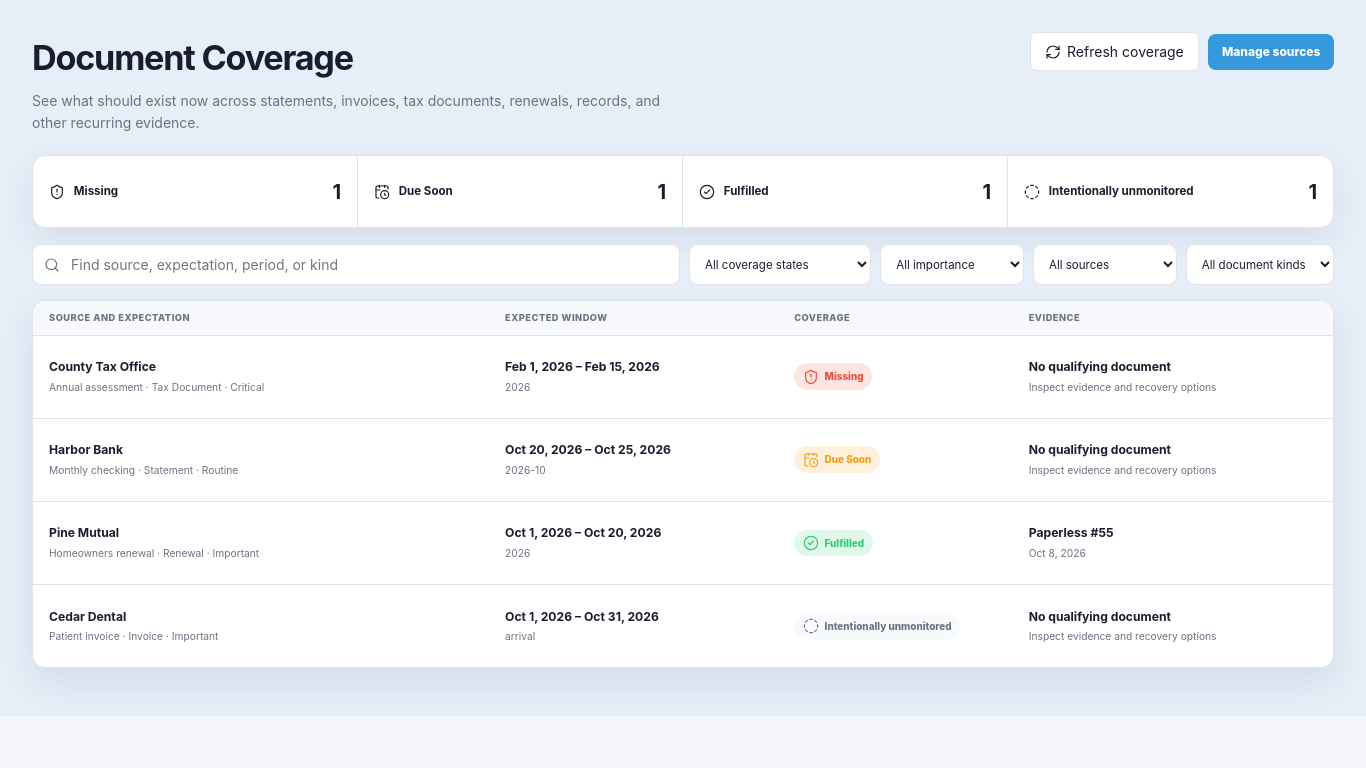
Test: DocumentCoverage › filters coverage across document kinds and states
The width and height of the screenshot is (1366, 768).
Select "Statements" in the dropdown named "Document kind" at (1260, 265), box [1186,244,1334,285]
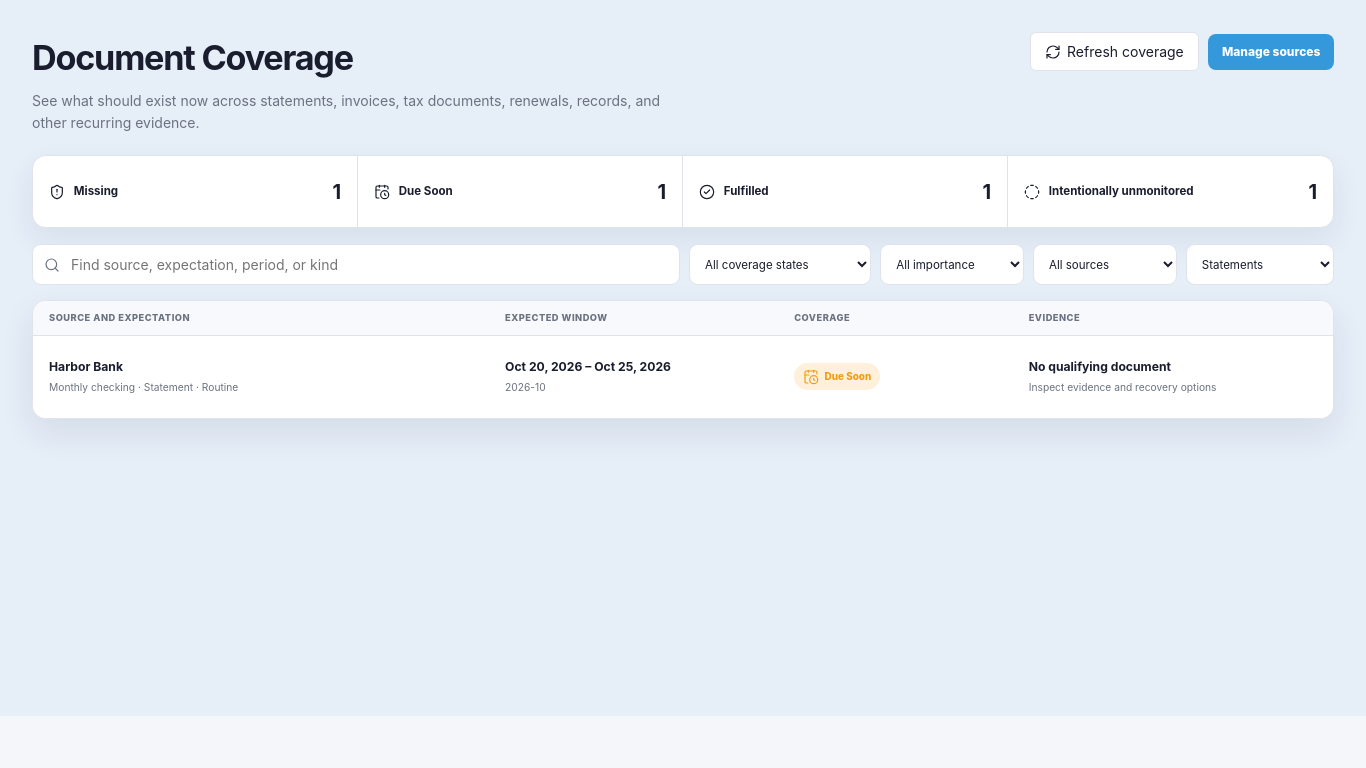
Select "Missing" in the dropdown named "Coverage state" at (780, 265), box [689,244,871,285]
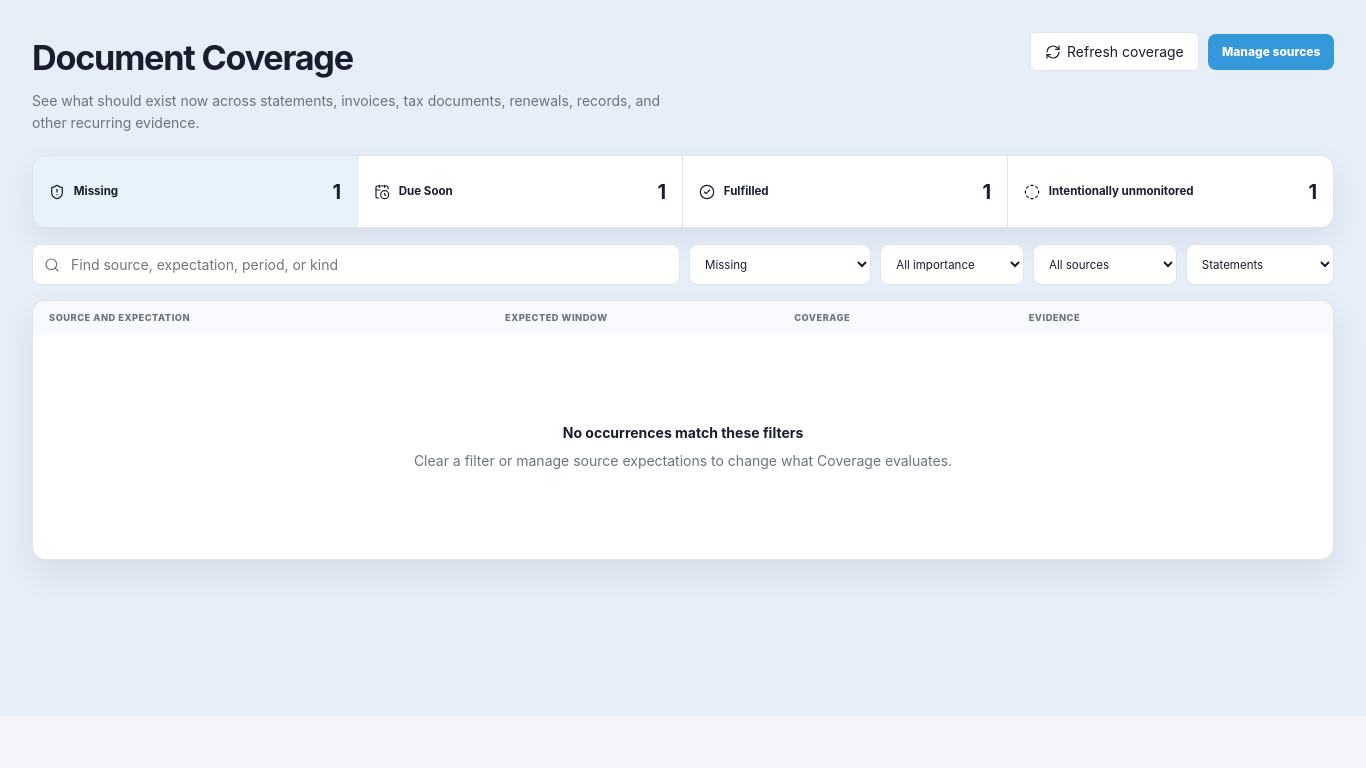
Expected: the text "No occurrences match these filters" is shown, [563,422,803,443]
